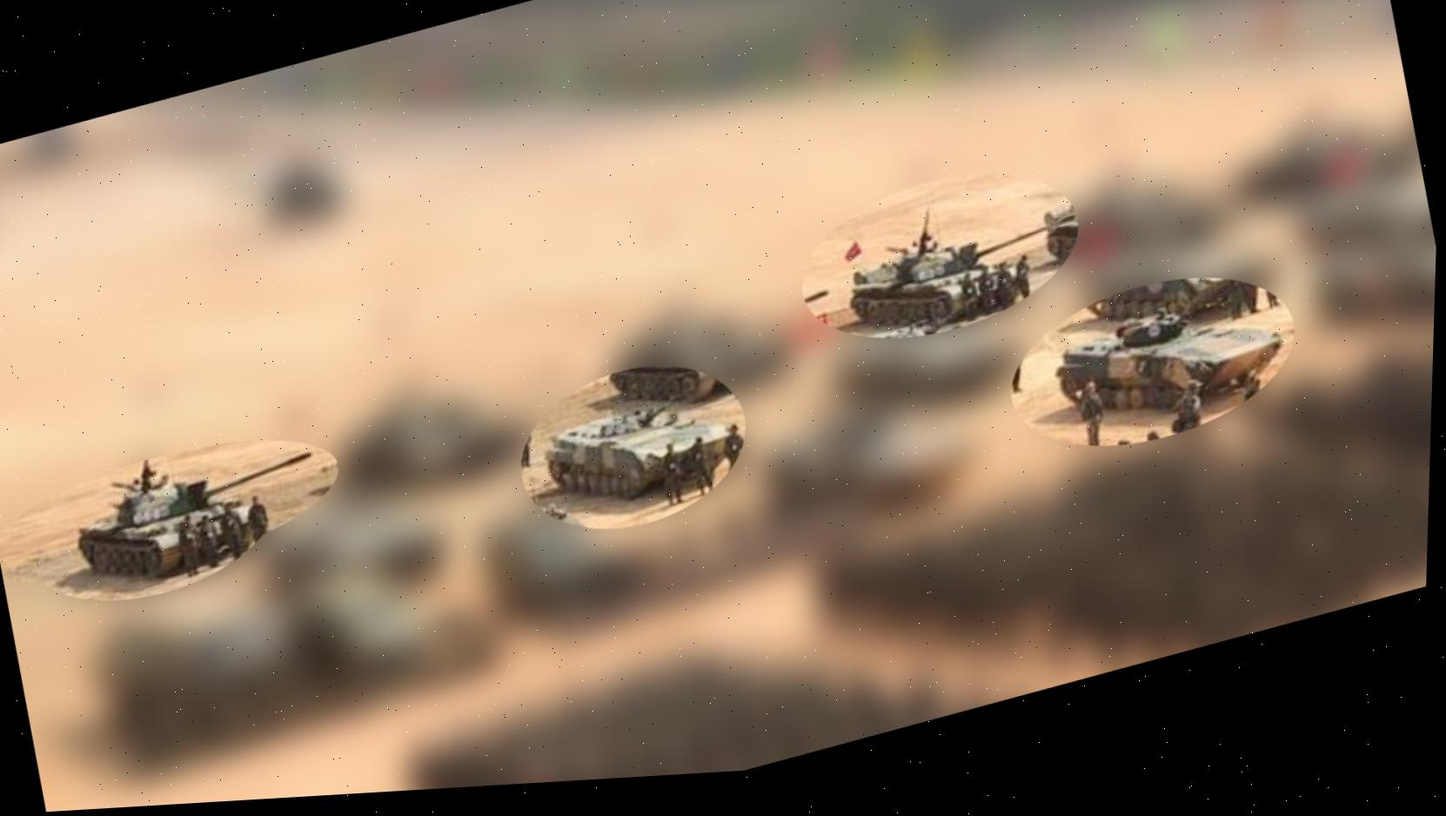armored_car: (1044, 275, 1302, 447), (540, 369, 757, 527)
tank: (56, 413, 338, 601), (829, 196, 1089, 360)
